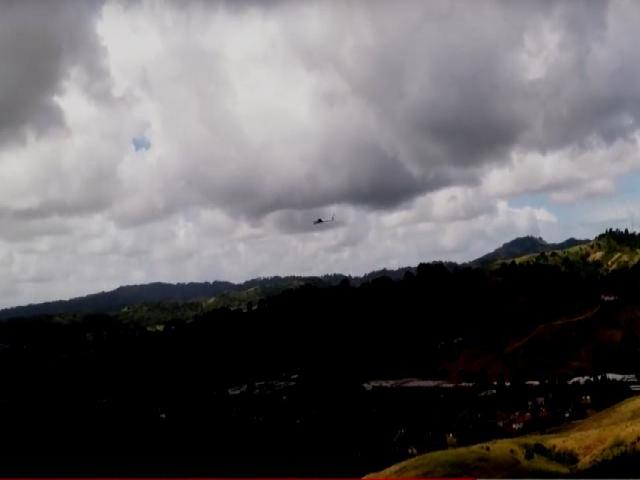iha: (311, 213, 336, 226)
